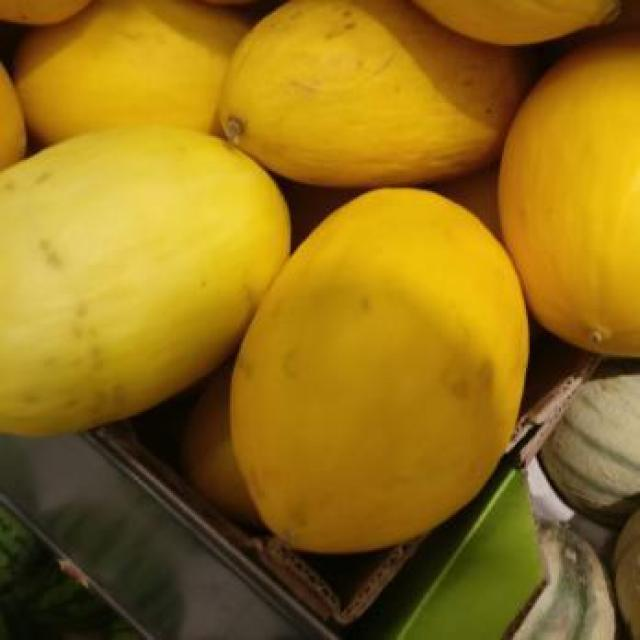Galia: (232, 181, 526, 545), (0, 122, 298, 451), (224, 0, 526, 182), (508, 0, 638, 368), (4, 0, 258, 142)
